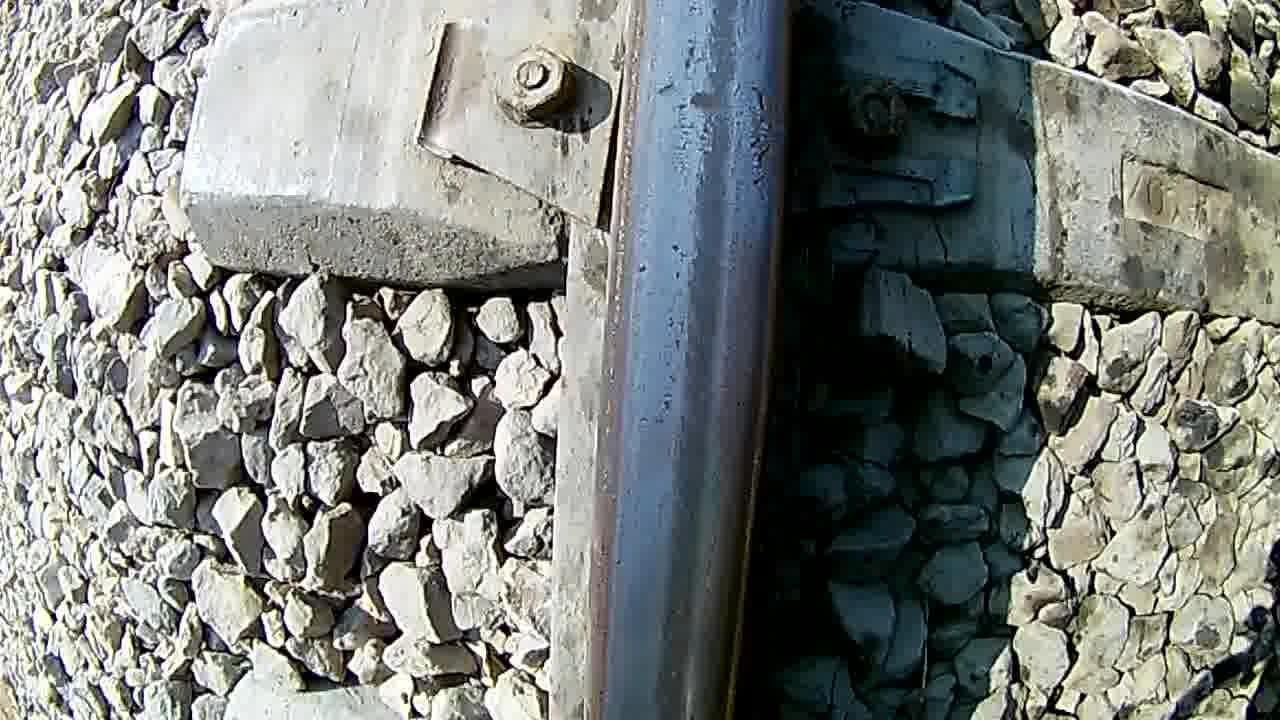crack: (598, 0, 792, 720)
